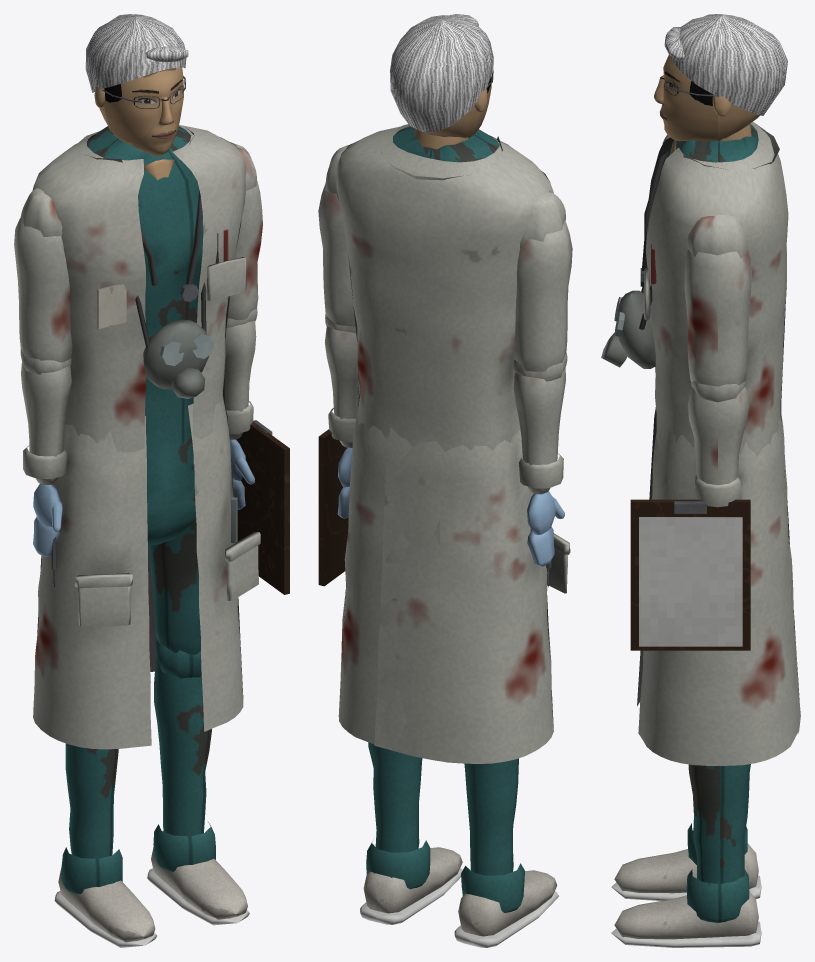
Rendered from char_julian.glb.
3 renders of one model, left to right at view 1: azimuth 30°, elevation 25°; view 2: azimuth 150°, elevation 25°; view 3: azimuth 270°, elevation 25°, orthographic. The views are drawn at different scales.
Parts seen in each view (by area): view 1: Spine, SkirtR, SkirtL, Head, ShinL, UpperArmR, HandL, ShinR, ThighL, ForearmR, Hips, FootR (+4 smaller); view 2: Spine, SkirtR, SkirtL, Head, UpperArmR, ShinR, ShinL, ForearmR, HandL, FootR, FootL, UpperArmL (+2 smaller); view 3: Spine, SkirtL, HandL, Head, UpperArmL, ShinL, ForearmL, FootL, FootR, SkirtR.
Part boxes in pixels (x1,y1,x2,y2): Spine: (32,125,246,463); SkirtR: (33,416,151,749); SkirtL: (148,395,260,731); Head: (85,14,188,155); ShinL: (153,639,215,871); UpperArmR: (14,188,72,362); HandL: (230,420,289,594); ShinR: (61,743,122,893); ThighL: (149,520,200,654); ForearmR: (20,349,71,484); Hips: (147,432,196,546); FootR: (54,867,156,947); Spine: (336,124,553,451); SkirtR: (374,428,570,763); SkirtL: (338,405,440,760); Head: (390,14,493,149); UpperArmR: (514,191,572,371); ShinR: (461,758,524,912); ShinL: (366,742,430,889); ForearmR: (513,352,567,494); HandL: (318,429,352,586); FootR: (454,870,558,947); FootL: (360,847,462,924); UpperArmL: (318,144,355,326); Spine: (601,122,788,456); SkirtL: (638,420,799,765); HandL: (630,499,750,650); Head: (654,14,787,141); UpperArmL: (684,215,751,386); ShinL: (686,764,750,922); ForearmL: (688,381,749,507); FootL: (611,891,761,947); FootR: (611,843,761,900); SkirtR: (637,407,800,733).
Size of the model in its own units: 0.5166 by 1.82 by 0.3664.
17 materials, 17 textured.
